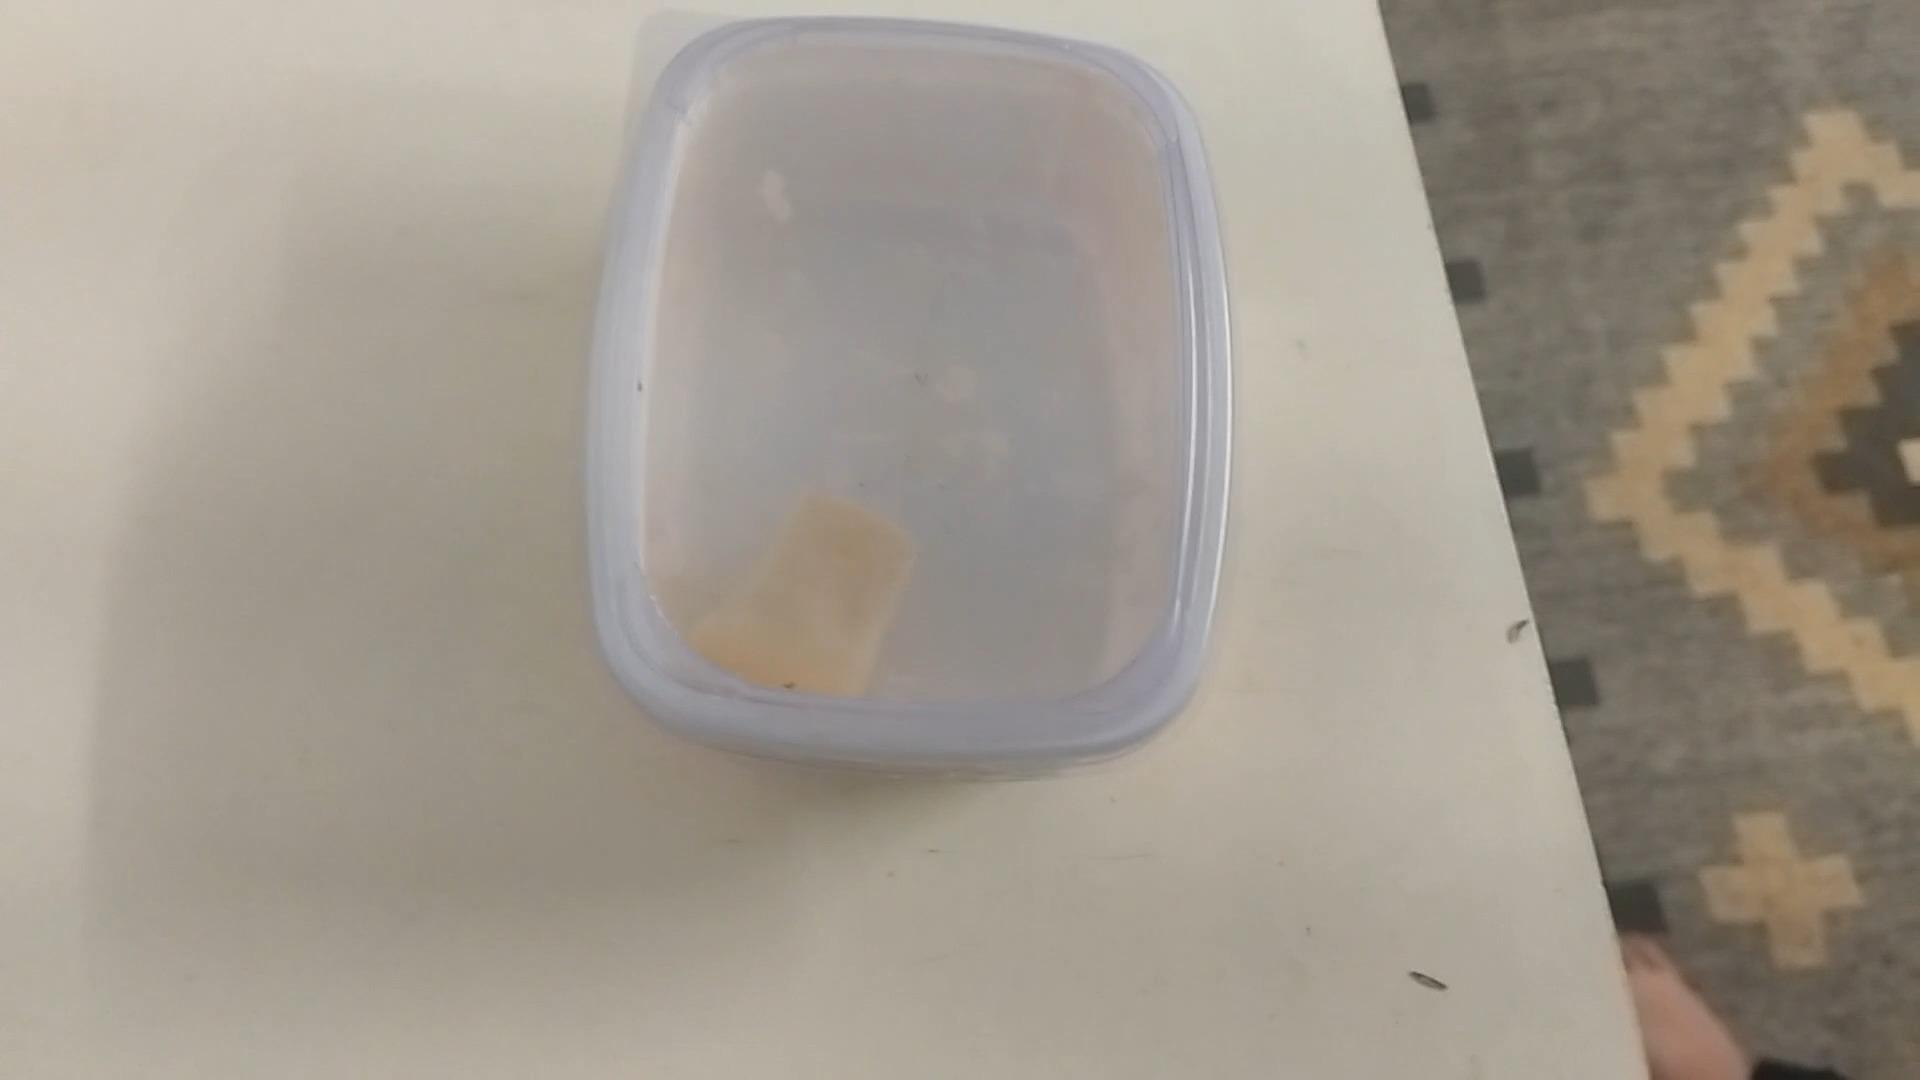butter: (587, 14, 1217, 774)
